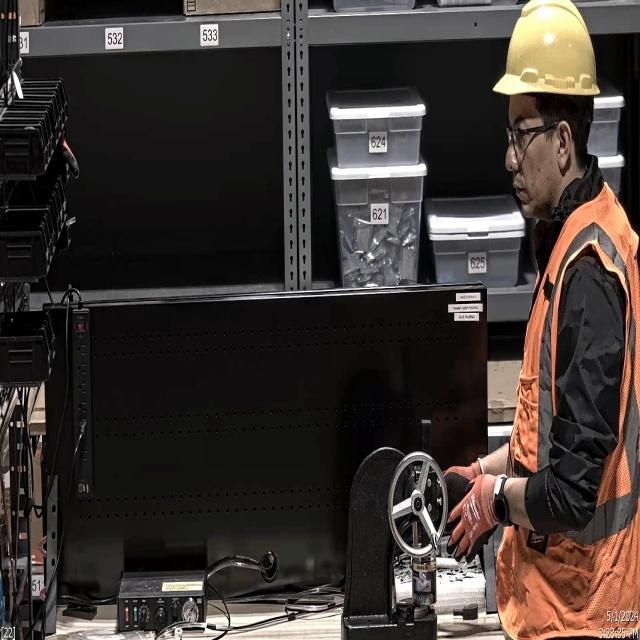construction-gloves: (438, 469, 498, 563)
